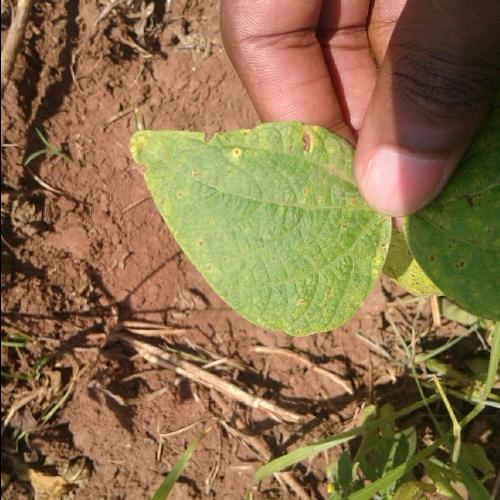hawar: (217, 112, 341, 194)
